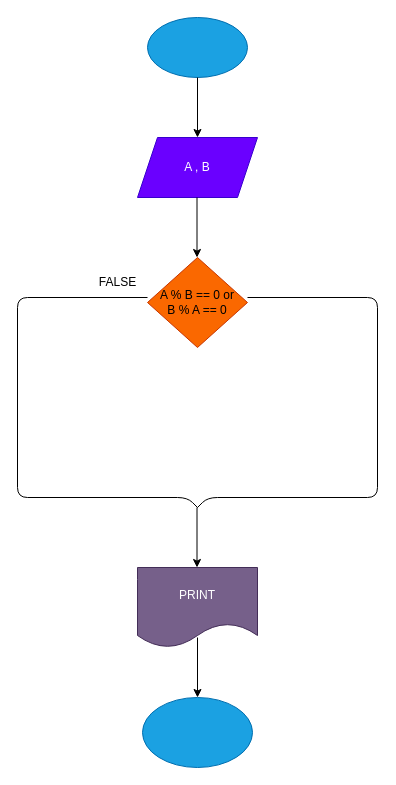
This 396x785 diagram has some shape labels left out. The shapes that lost their labels are listed below. From the top down, each one's box as (x1, y1, x2, y2) in pixels, then its label:
(146, 16, 248, 78): INICIO
(142, 696, 252, 768): FIN
